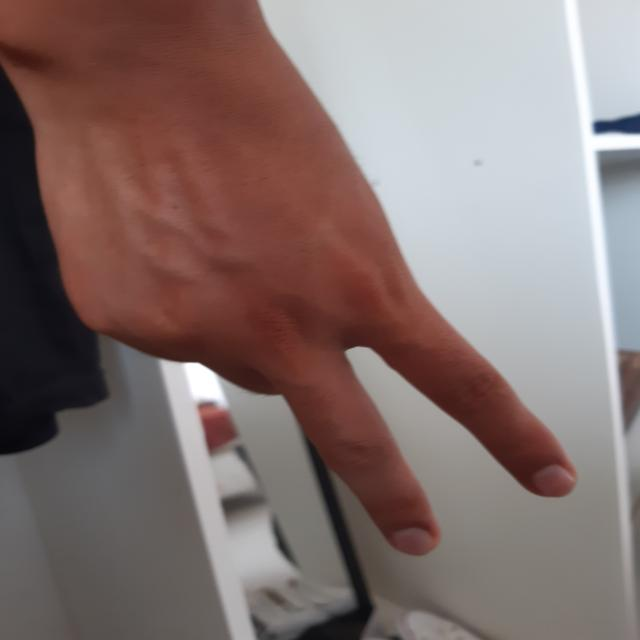EYE: (0, 60, 591, 571)
